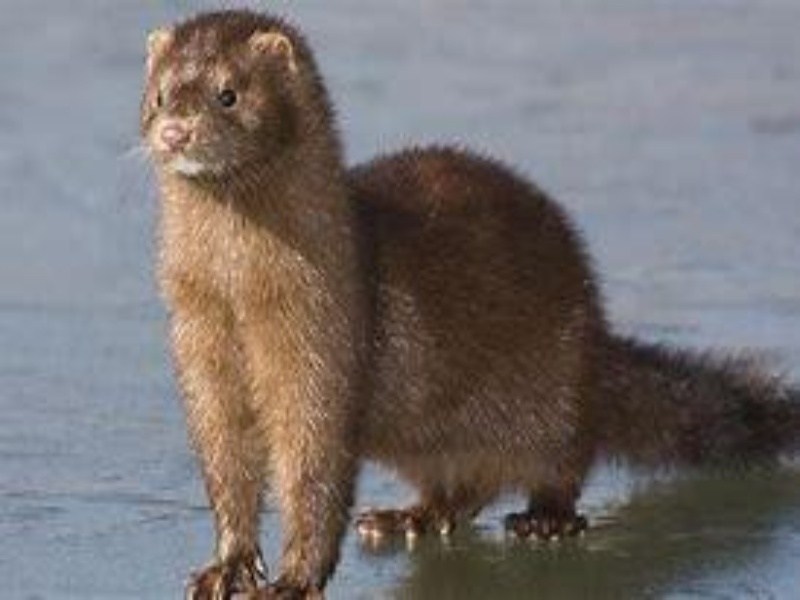minkish: (133, 5, 796, 596)
